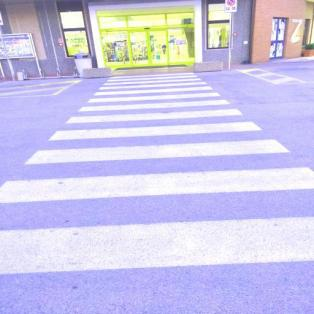Paso de Cebra: (21, 120, 299, 168), (82, 86, 230, 104)
